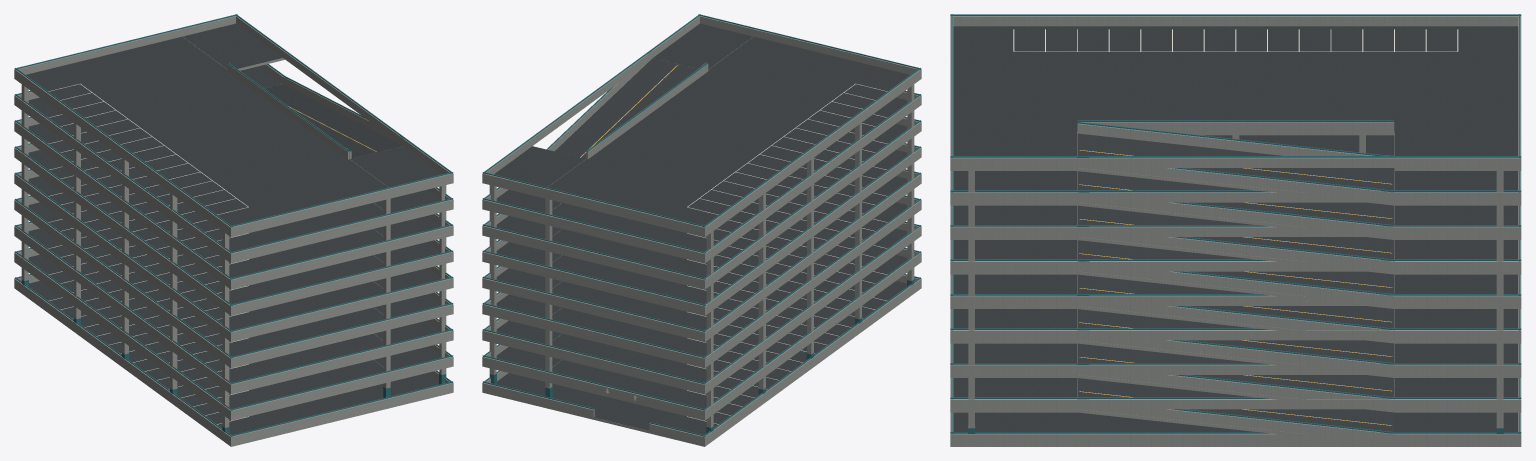
File: small_09.glb
3 views of the same model, side by side, from view 1: azimuth 30°, elevation 25°; view 2: azimuth 150°, elevation 25°; view 3: azimuth 270°, elevation 25° (orthographic). The views are drawn at different scales.
Parts seen in each view (by area): view 1: small_09_Asphalt, small_09_Concrete, small_09_Teal, small_09_Paint; view 2: small_09_Asphalt, small_09_Concrete, small_09_Teal, small_09_Paint; view 3: small_09_Asphalt, small_09_Concrete, small_09_Teal, small_09_Yellow, small_09_Paint.
Part boxes in pixels (<box>): small_09_Asphalt: <box>26,23,441,434</box>; small_09_Concrete: <box>14,16,453,446</box>; small_09_Teal: <box>14,14,453,436</box>; small_09_Paint: <box>48,83,248,424</box>; small_09_Asphalt: <box>494,23,909,434</box>; small_09_Concrete: <box>482,16,921,446</box>; small_09_Teal: <box>482,14,921,436</box>; small_09_Paint: <box>687,83,887,424</box>; small_09_Asphalt: <box>953,26,1518,431</box>; small_09_Concrete: <box>950,16,1521,446</box>; small_09_Teal: <box>950,14,1521,433</box>; small_09_Yellow: <box>1079,150,1392,425</box>; small_09_Paint: <box>1013,29,1458,51</box>.
Size of the model in its own units: 32 by 30.28 by 54.02.
6 materials, 2 textured.
